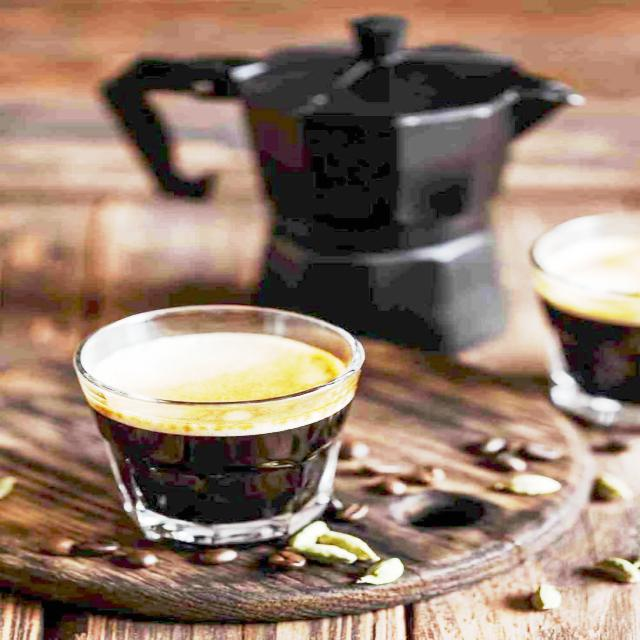drink: (82, 306, 367, 530)
